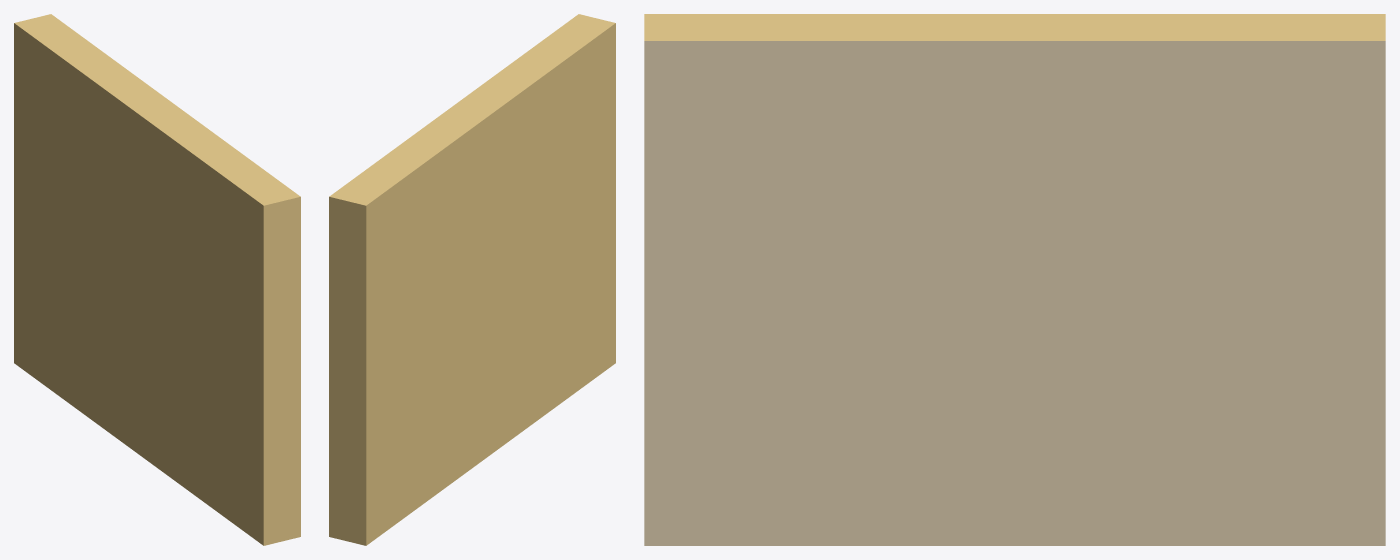
Rendered from SalleRandom_Mur03.fbx.
The picture shows the model from 3 angles, left to right: view 1: azimuth 30°, elevation 25°; view 2: azimuth 150°, elevation 25°; view 3: azimuth 270°, elevation 25°; orthographic projection. The views are drawn at different scales.
Parts seen in each view (by area): view 1: Mur03; view 2: Mur03; view 3: Mur03.
Boxes of the visible parts, <box> form: Mur03: <box>14,14,300,545</box>; Mur03: <box>329,14,615,545</box>; Mur03: <box>644,14,1385,545</box>.
Size of the model in its own units: 0.7393 by 6.49 by 8.63.
